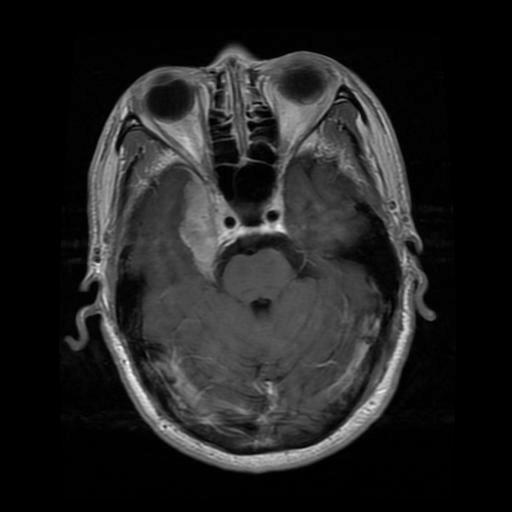Tumour-Pituitary: (159, 182, 248, 288)
